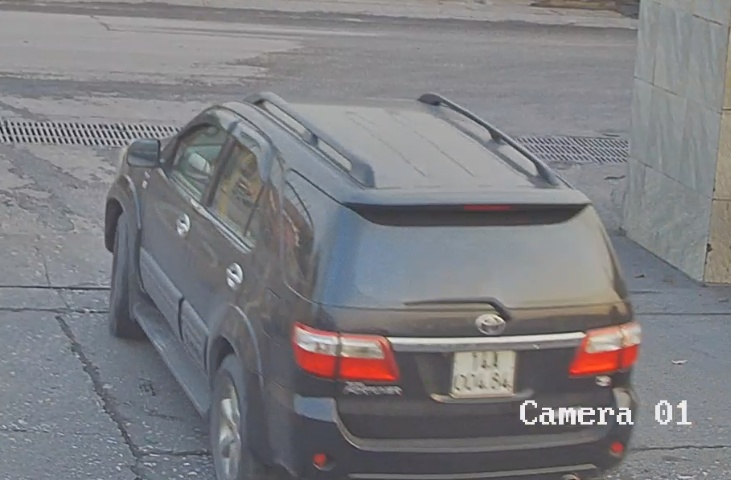vehicle plate: (442, 348, 529, 399)
